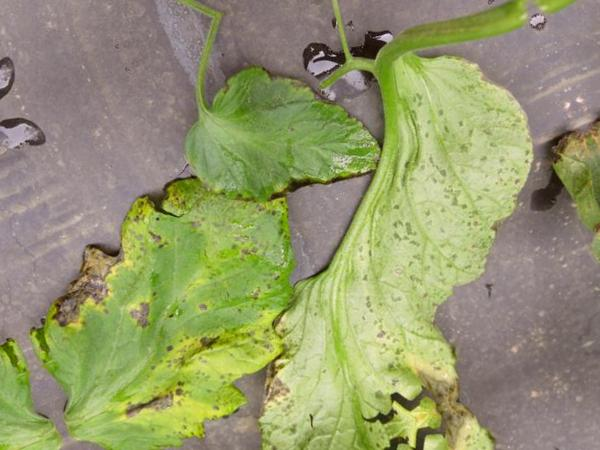Tomato leaf bacterial spot: (0, 140, 366, 450)
